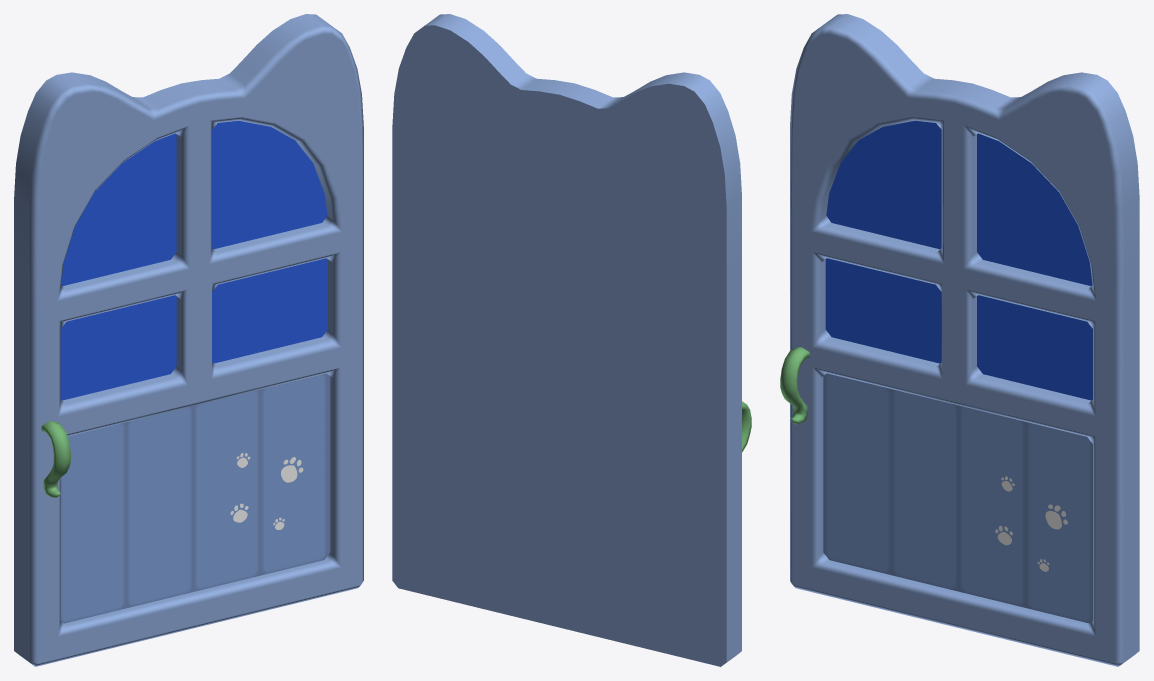
The model's file is Door_New.fbx.
3 renders of one model, left to right at view 1: azimuth 30°, elevation 25°; view 2: azimuth 150°, elevation 25°; view 3: azimuth 330°, elevation 25°, orthographic.
Visible parts, largest first — view 1: Door, DoorHandle, PawPrints; view 2: Door; view 3: Door, DoorHandle, PawPrints.
Boxes of the visible parts, left/top/right/bottom form: Door: left=14, top=14, right=363, bottom=666; DoorHandle: left=41, top=421, right=70, bottom=498; PawPrints: left=230, top=453, right=303, bottom=529; Door: left=392, top=14, right=741, bottom=666; Door: left=790, top=14, right=1139, bottom=666; DoorHandle: left=780, top=347, right=809, bottom=424; PawPrints: left=995, top=476, right=1067, bottom=571.
Size of the model in its own units: 154 by 252 by 28.11.
